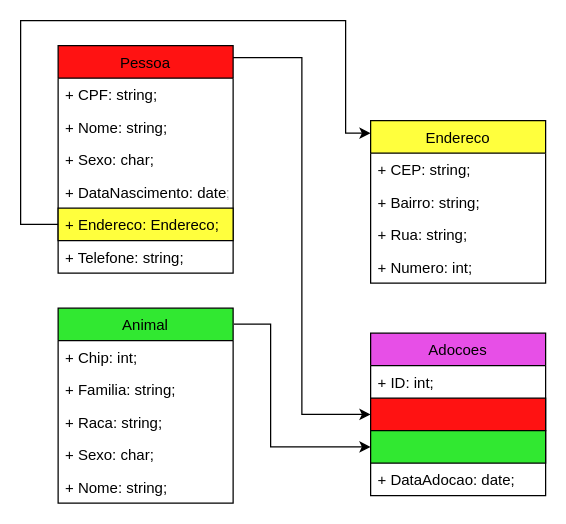
Image size: 566x524. Some labels were removed from this diagram. Here are the shapes that lost their labels. From the top down, the centre of each, then its label:
point (457, 414): + Pessoa: Pessoa;
point (457, 446): + Animal: Animal;
